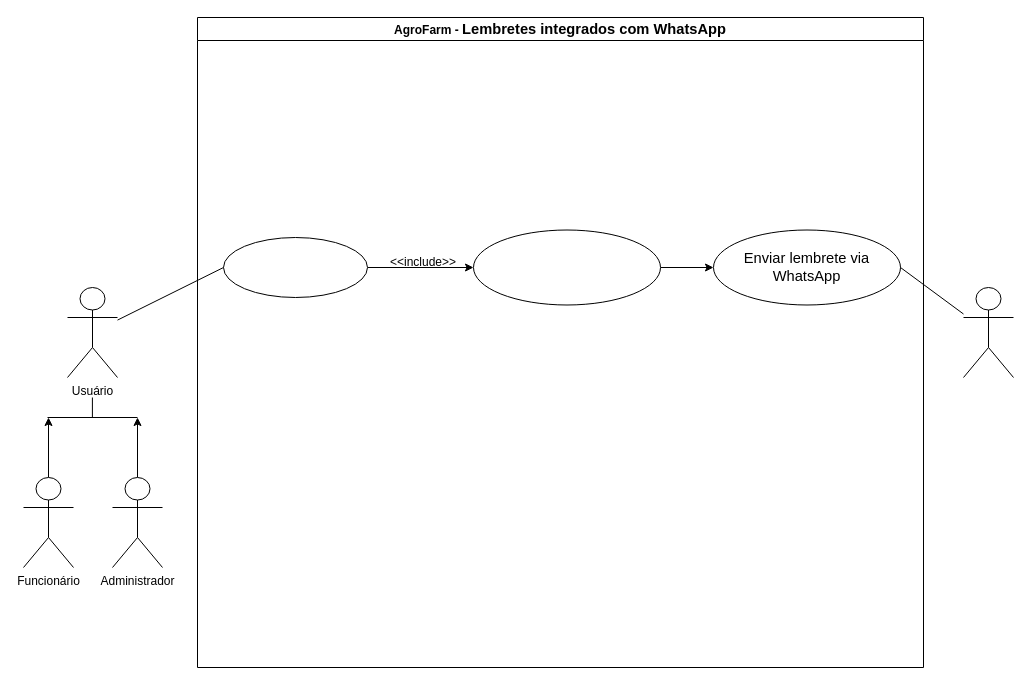
Image size: 1031x685. Some labels were removed from this diagram. The shapes that lost their labels are listed below. From the top down, each one's centre as x and y in pixels, then its label:
At (295,267): "Adicionar lembrete".
At (566,267): "Gerar jobs de envio de mensagens via WhatsApp".
At (988,332): "API WPP".
